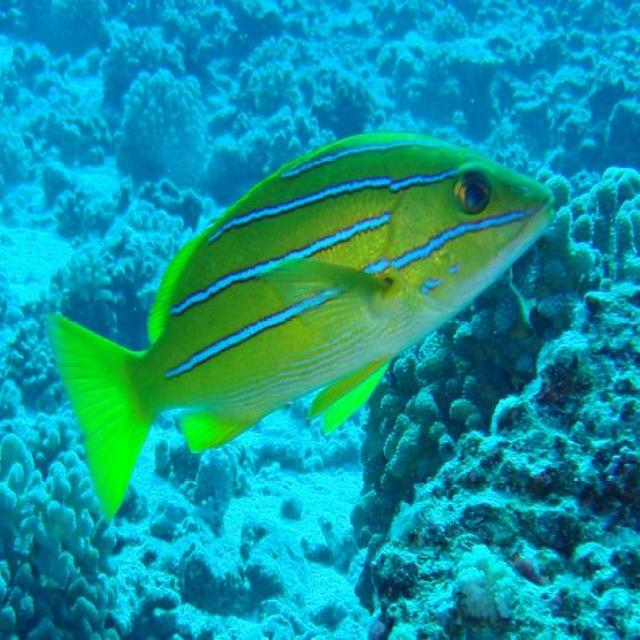ikan: (43, 128, 556, 523)
